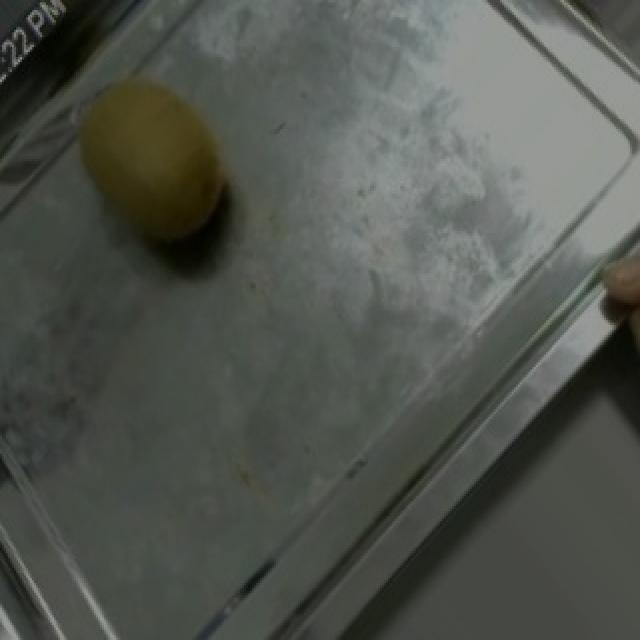Fruit: (40, 42, 270, 293)
